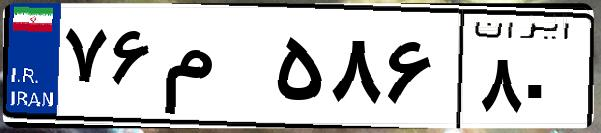0: (525, 38, 570, 115)
5: (270, 28, 330, 110)
6: (385, 28, 445, 110), (110, 28, 158, 98)
7: (57, 26, 110, 100)
8: (330, 28, 385, 110), (475, 38, 525, 113)
م: (158, 20, 270, 120)
